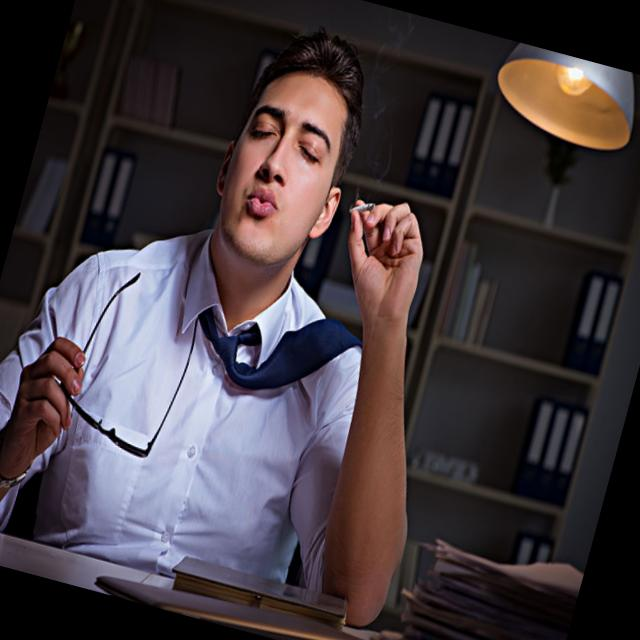cigarette: (342, 194, 380, 228)
